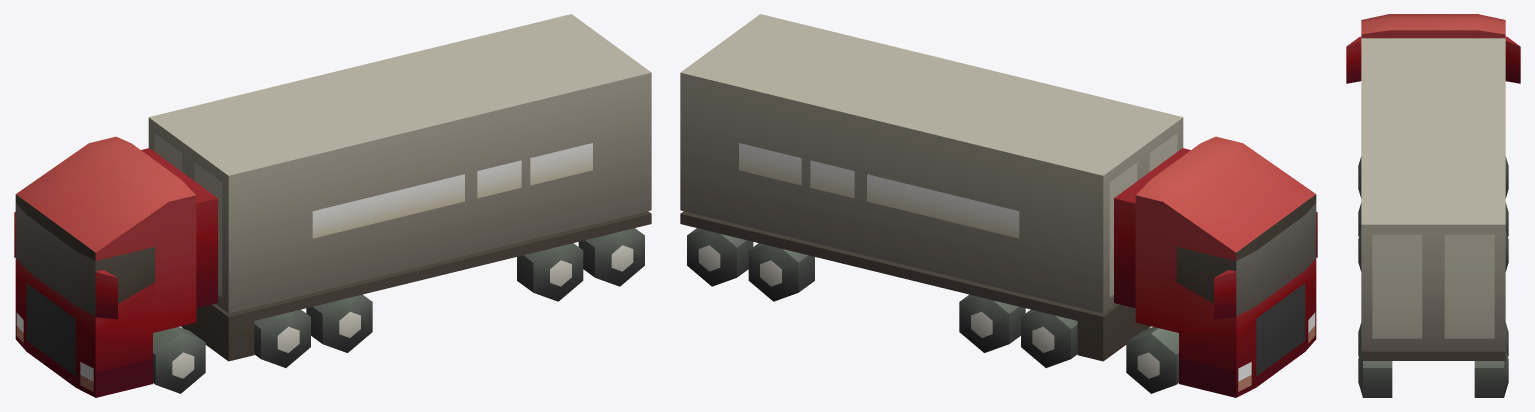
Rendered from SM_Factory_Truck_02.fbx.
3 views of the same model, side by side, from view 1: azimuth 30°, elevation 25°; view 2: azimuth 150°, elevation 25°; view 3: azimuth 270°, elevation 25° (orthographic). The views are drawn at different scales.
Visible parts, largest first — view 1: SM_Factory_Truck_02; view 2: SM_Factory_Truck_02; view 3: SM_Factory_Truck_02.
Part boxes in pixels (bbox=[...]): SM_Factory_Truck_02: bbox=[14, 14, 651, 397]; SM_Factory_Truck_02: bbox=[680, 14, 1317, 397]; SM_Factory_Truck_02: bbox=[1346, 14, 1520, 397].
Size of the model in its own units: 3.23 by 1.14 by 0.9642.
